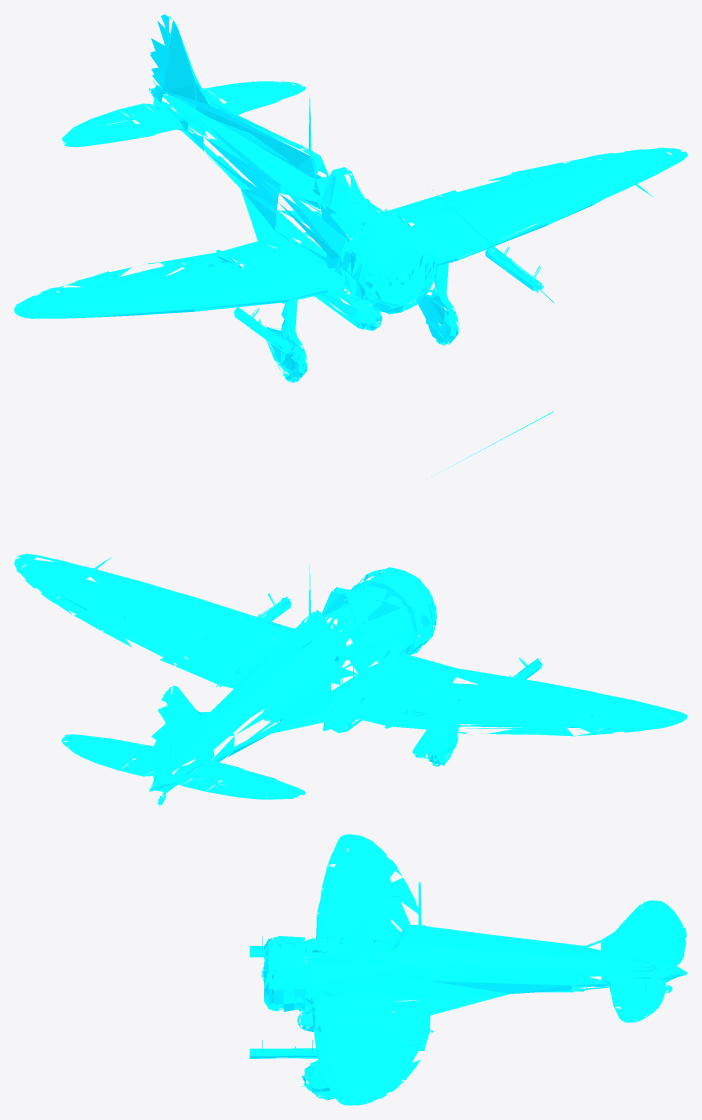
Rendered from PJAF106.glb.
3 renders of one model, top to bottom at view 1: azimuth 30°, elevation 25°; view 2: azimuth 150°, elevation 25°; view 3: azimuth 270°, elevation 25°, orthographic. The views are drawn at different scales.
Visible parts, largest first — view 1: misc; view 2: misc; view 3: misc.
Boxes of the visible parts, x1,y1,x2,y2 form: misc: (14,14,687,382); misc: (14,411,687,805); misc: (249,834,687,1105).
Bounding box in the file's own units: 0.7312 × 0.2342 × 0.7678.
